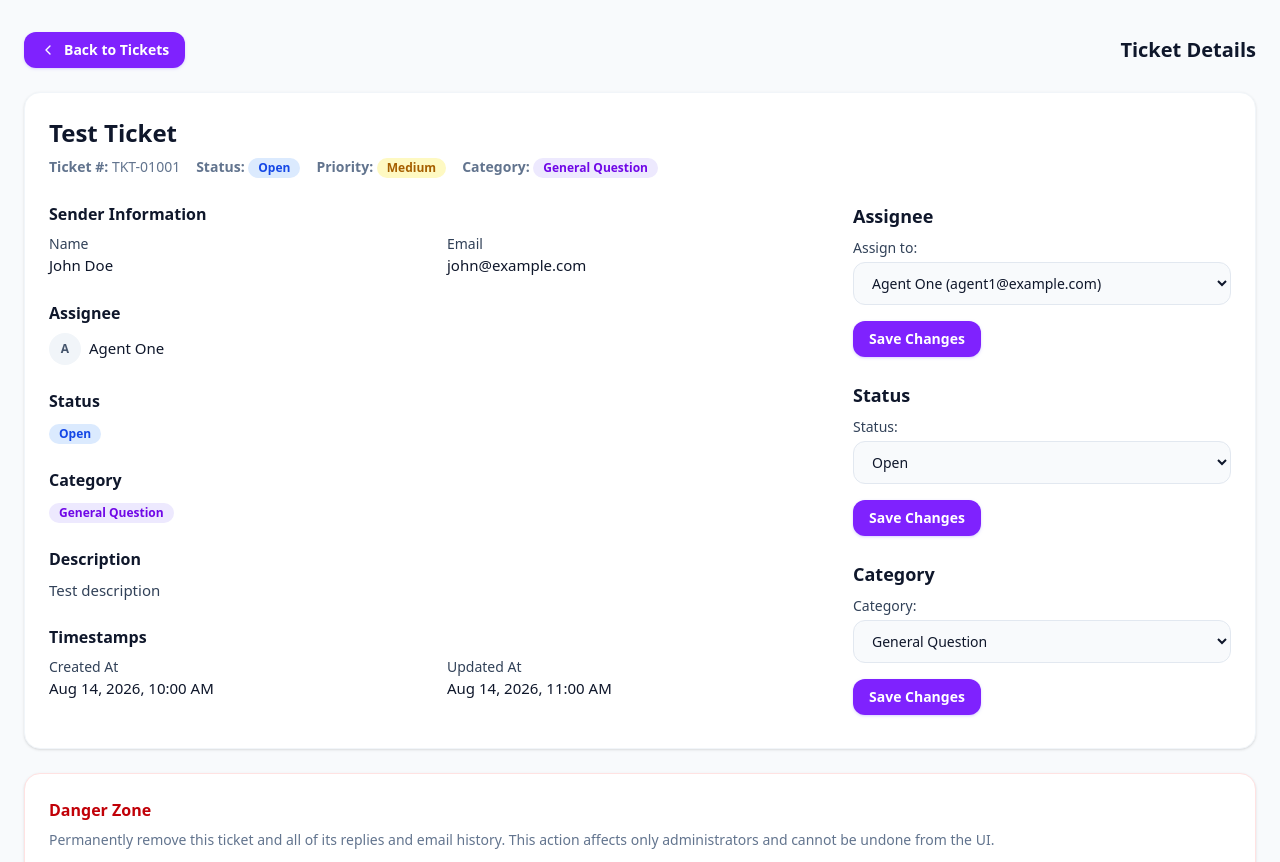
TicketDetailsPage › allows admin to change ticket category
Check: the heading "Test Ticket" is shown, box [49,116,177,149]
// Select category from dropdown
Select "Technical Question" in the dropdown with test id "category-select" at (1042, 642), box [853,620,1231,663]
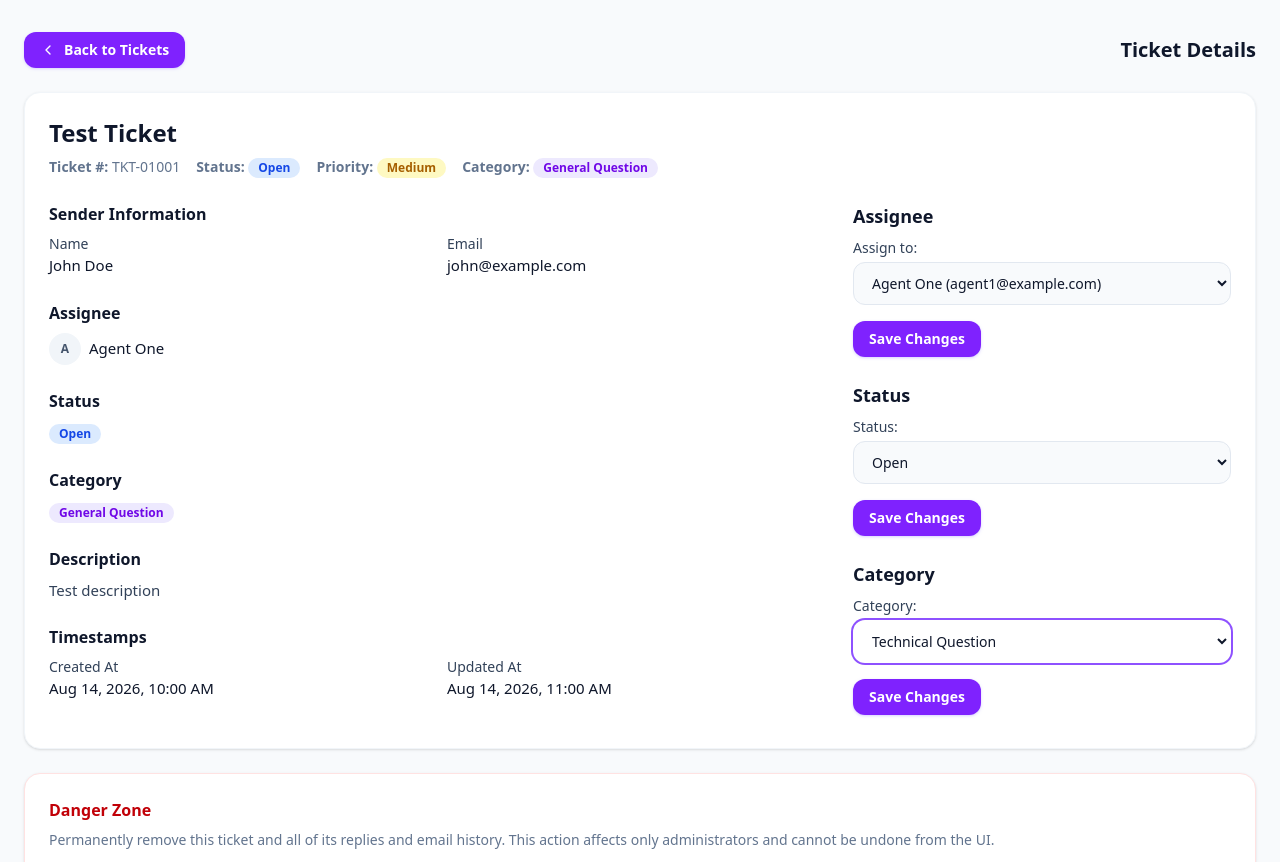
// Click save changes button
Click the 3rd button "Save Changes" at (917, 697), box [853,679,981,715]
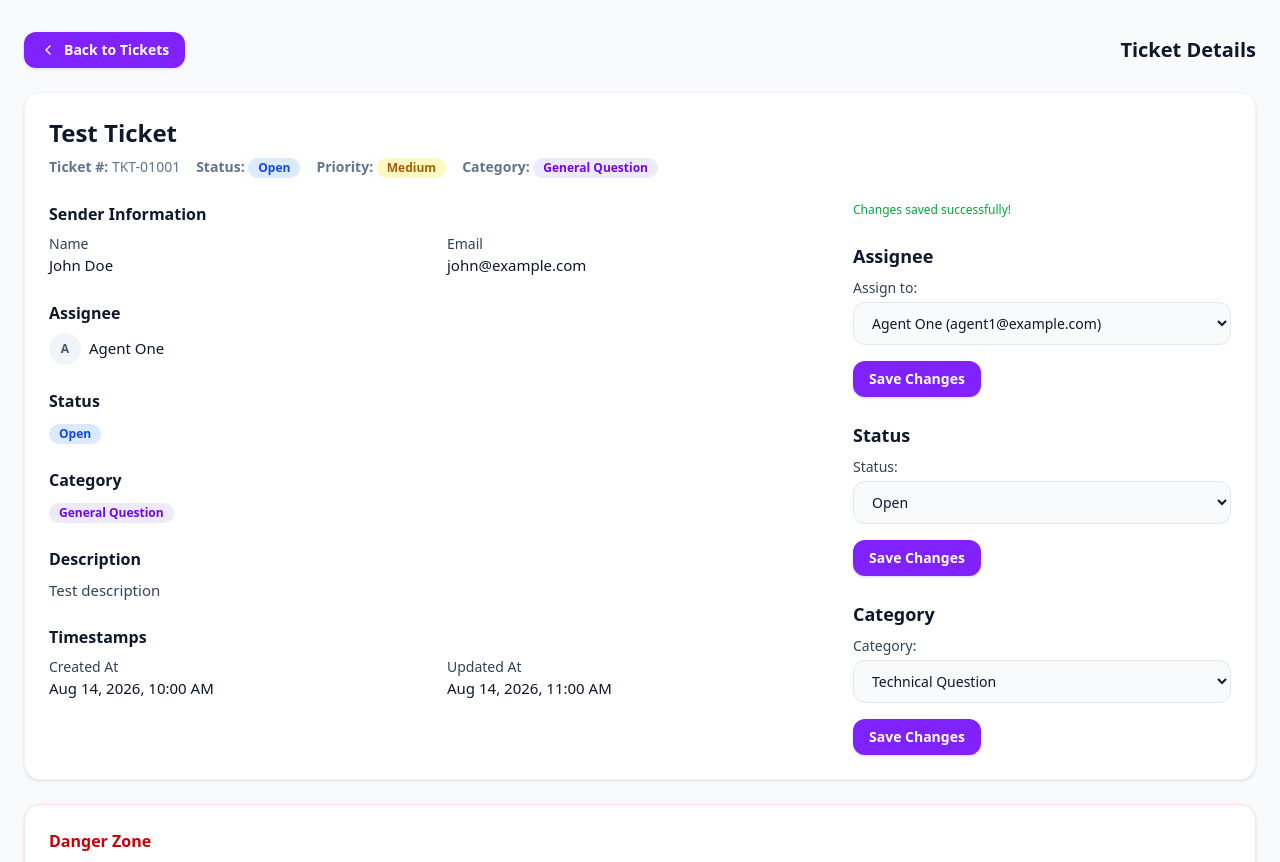
Check: the text "Changes saved successfully!" is shown, box [853,201,1011,218]
